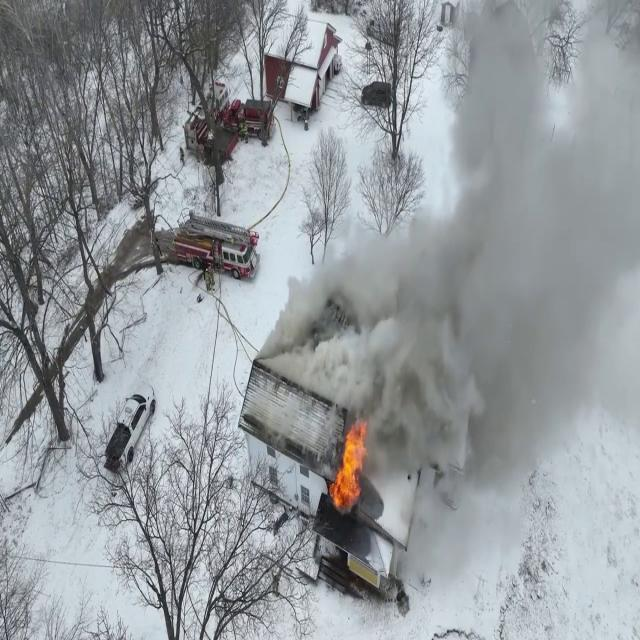Fire: (329, 414, 371, 516)
Smoke: (350, 1, 640, 510)
